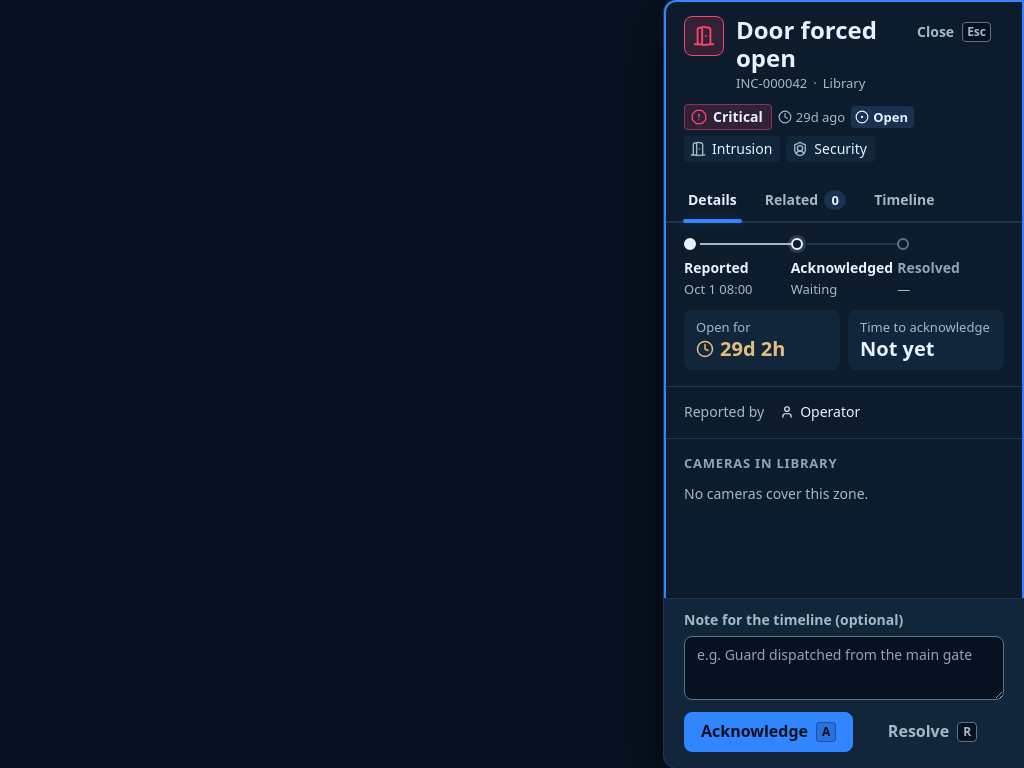
Test: IncidentDetail › resolve confirmation › asks before resolving a critical incident without a note
This screenshot has width=1024, height=768.
Step 1. Click the button "Resolve R" → coordinates (932, 732), box [861,712,1004,752]
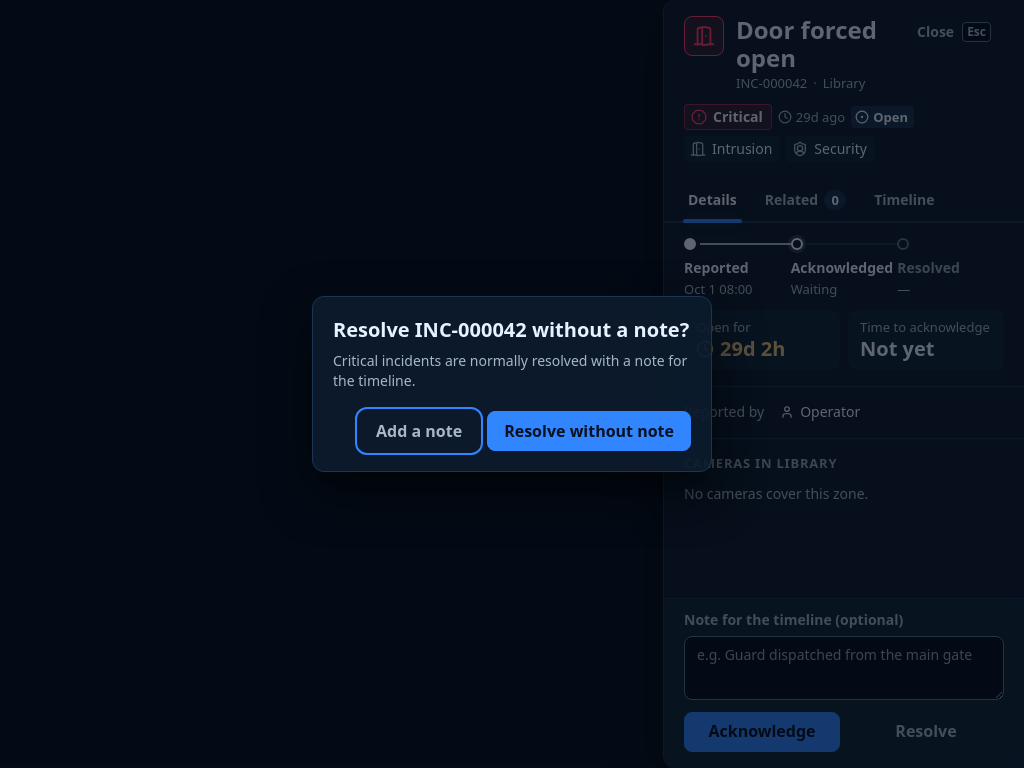
Now the dialog "Resolve INC-000042 without a note?" shows "Critical incidents are normally resolved with a note for the timeline.", box [333,351,687,390]
